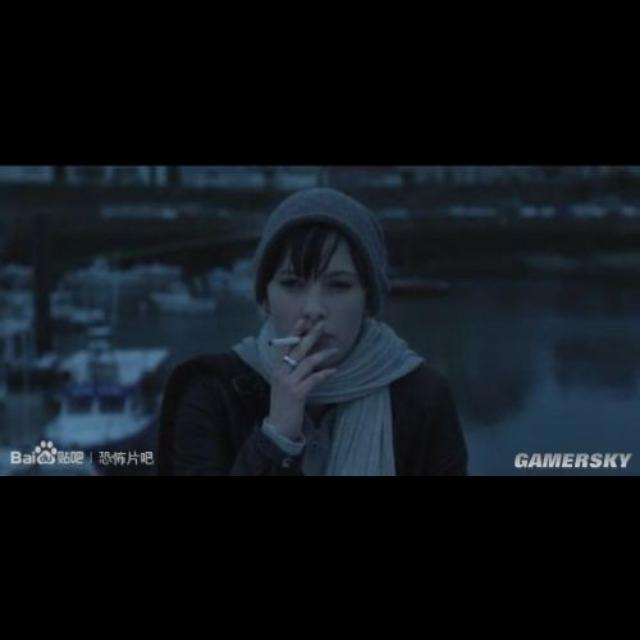rokok: (266, 335, 308, 353)
